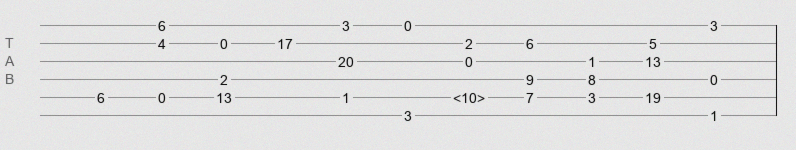0: (158, 90, 166, 100), (220, 36, 228, 46), (404, 18, 412, 28), (465, 54, 473, 64), (710, 72, 718, 82)
1: (342, 90, 350, 100), (588, 54, 596, 64), (710, 108, 718, 118)
13: (216, 90, 232, 100), (645, 54, 661, 64)
17: (277, 36, 293, 46)
19: (645, 90, 661, 100)
2: (220, 72, 228, 82), (465, 36, 473, 46)
20: (338, 54, 354, 64)
3: (342, 18, 350, 28), (404, 108, 412, 118), (588, 90, 596, 100), (710, 18, 718, 28)
4: (158, 36, 166, 46)
5: (649, 36, 657, 46)
6: (97, 90, 105, 100), (158, 18, 166, 28), (526, 36, 534, 46)
7: (526, 90, 534, 100)
8: (588, 72, 596, 82)
9: (526, 72, 534, 82)
harmonic: (453, 90, 485, 100)
